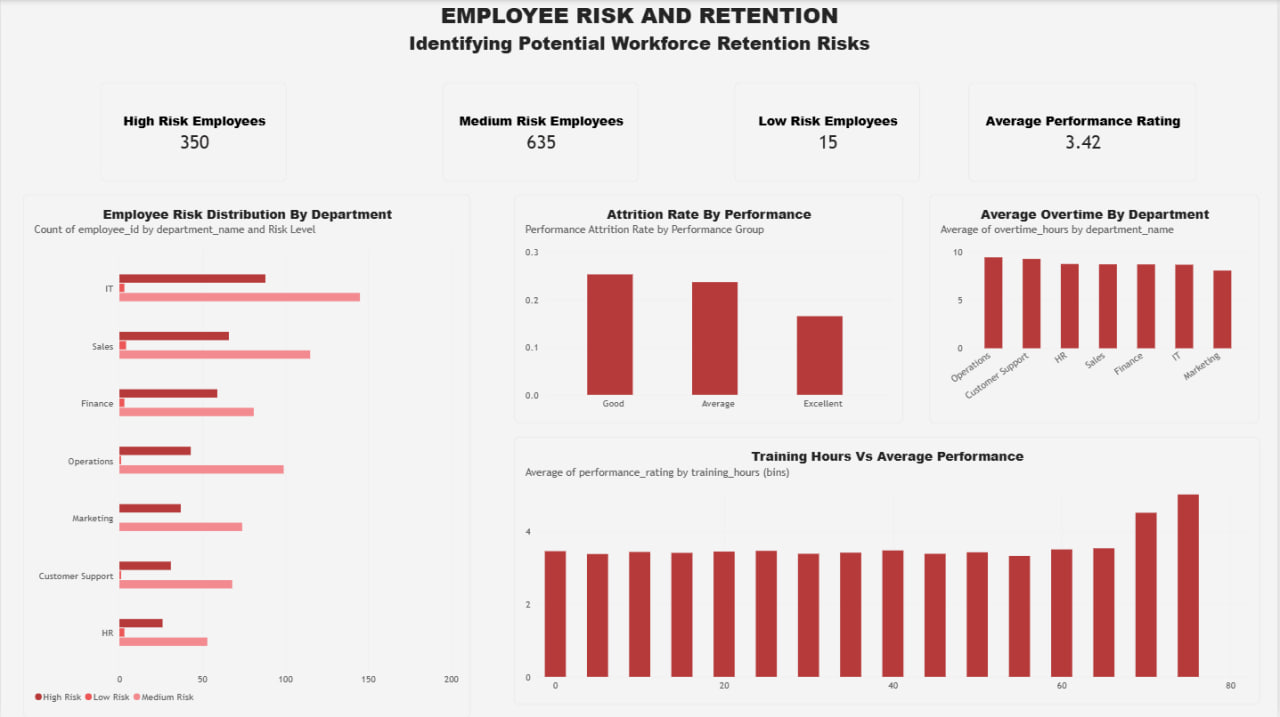

Layout of this report page (visuals, bound fields, positions):
{"tool":"powerbi","page":{"name":"Employee Risk & Retention ","canvas":[1920,1080],"ordinal":3},"visuals":[{"type":"cardVisual","fields":{"Data":["Count(employees.employee_id)"]},"box":[150.3,123.5,279.9,150.3],"z":0},{"type":"cardVisual","fields":{"Data":["Count(employees.employee_id)"]},"box":[664.8,123.5,294.3,150.3],"z":1},{"type":"cardVisual","fields":{"Data":["Count(employees.employee_id)"]},"box":[1103.3,123.5,279.9,150.3],"z":2},{"type":"cardVisual","fields":{"Data":["Avg(performance.performance_rating)"]},"box":[1455.2,123.5,343.7,150.3],"z":3},{"type":"clusteredBarChart","title":"Employee Risk Distribution By Department","fields":{"Category":["departments.department_name"],"Series":["employees.Risk Level"],"Y":["CountNonNull(employees.employee_id)"]},"box":[32.9,292.3,673.1,788.3],"z":4},{"type":"clusteredColumnChart","title":"Attrition Rate By Performance","fields":{"Category":["performance.Performance Group"],"Y":["employees.Performance Attrition Rate"]},"box":[771.9,292.3,584.6,343.7],"z":5},{"type":"clusteredColumnChart","title":"Average Overtime By Department","fields":{"Category":["departments.department_name"],"Y":["Avg(attendance.overtime_hours)"]},"box":[1397.6,292.3,496.1,343.7],"z":6},{"type":"clusteredColumnChart","title":"Training Hours Vs Average Performance","fields":{"Category":["performance.training_hours (bins)"],"Y":["Avg(performance.performance_rating)"]},"box":[771.9,658.7,1121.8,403.4],"z":7},{"type":"textbox","box":[0,0,1921.2,87.1],"z":8}]}

Visuals, with their boxes in screenshot pixels (x1, y1, x2, y2), scaled from the page's 1920x1080 canvas onto the 1280x717 screenshot:
cardVisual - Count(employees.employee_id): {"left": 100, "top": 82, "right": 287, "bottom": 182}
cardVisual - Count(employees.employee_id): {"left": 443, "top": 82, "right": 639, "bottom": 182}
cardVisual - Count(employees.employee_id): {"left": 736, "top": 82, "right": 922, "bottom": 182}
cardVisual - Avg(performance.performance_rating): {"left": 970, "top": 82, "right": 1199, "bottom": 182}
"Employee Risk Distribution By Department" clusteredBarChart: {"left": 22, "top": 194, "right": 471, "bottom": 716}
"Attrition Rate By Performance" clusteredColumnChart: {"left": 515, "top": 194, "right": 904, "bottom": 422}
"Average Overtime By Department" clusteredColumnChart: {"left": 932, "top": 194, "right": 1262, "bottom": 422}
"Training Hours Vs Average Performance" clusteredColumnChart: {"left": 515, "top": 437, "right": 1262, "bottom": 705}
textbox: {"left": 0, "top": 0, "right": 1279, "bottom": 58}
